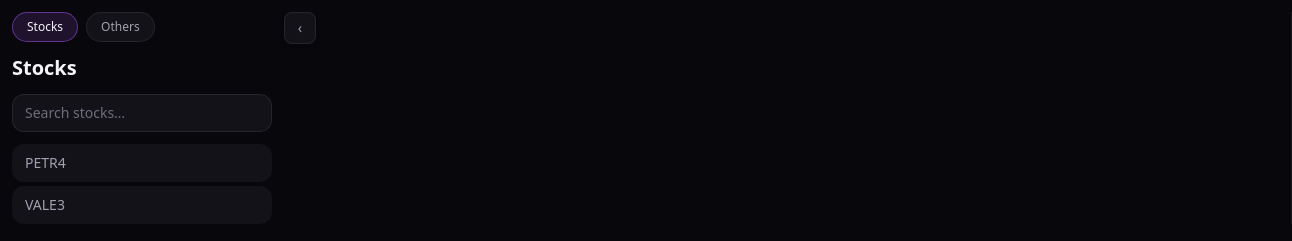
Scenario: AssetListPanel › keeps both asset lists mounted (not unmounted) across tab switches
Expected: the button "PETR4" is shown, left=12, top=144, right=272, bottom=182
Click the button "Others" at (120, 27), box left=86, top=12, right=155, bottom=42
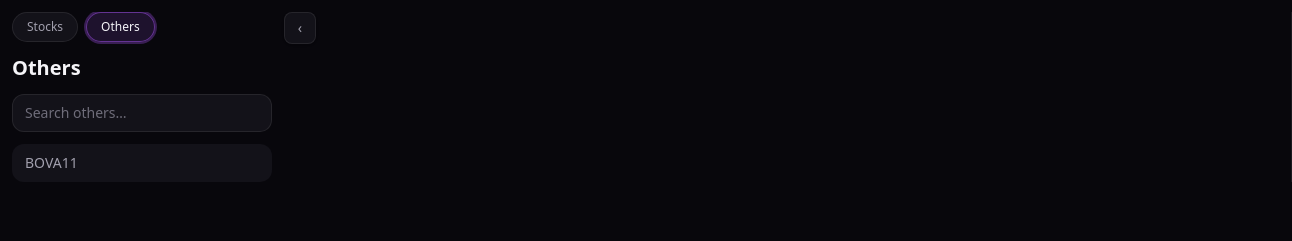
Now the button "BOVA11" is shown, box left=12, top=144, right=272, bottom=182
